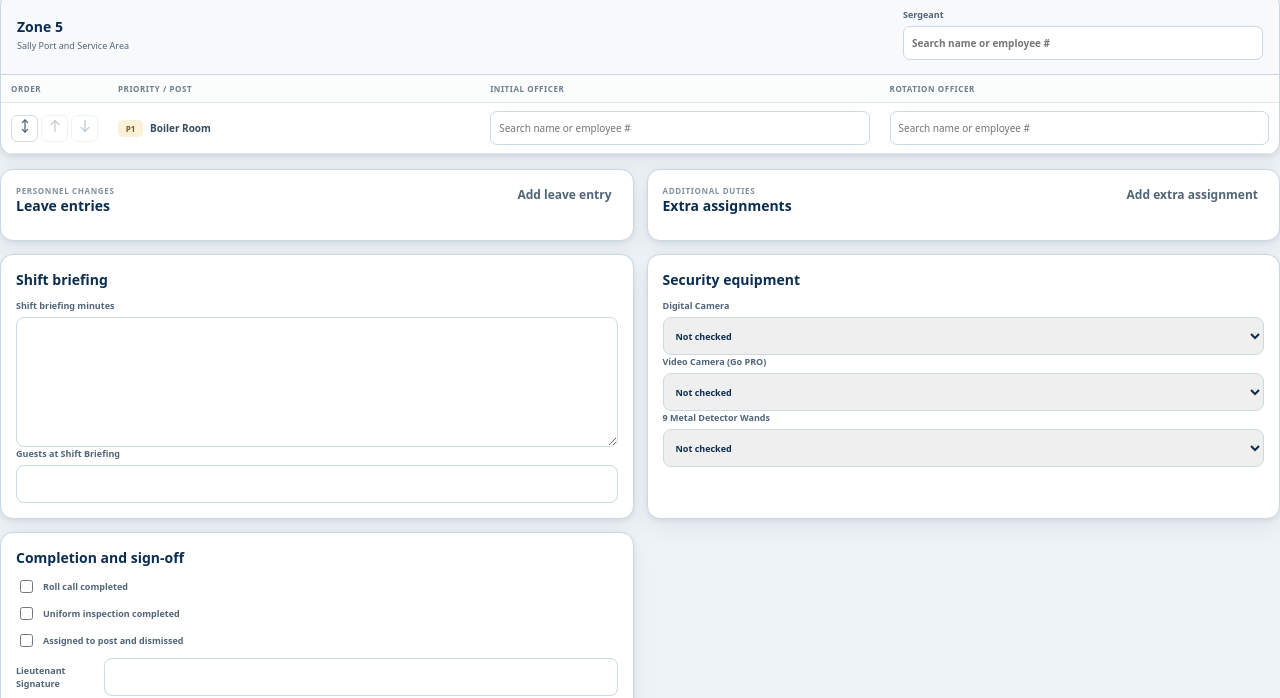
Scenario: Shift Assignment Roster editor › preserves edits made during a pending save and uses the returned revision next
The width and height of the screenshot is (1280, 698).
(page scrolled)
Step 1. Type "Initial edit" into the text box labelled "Shift briefing minutes" → (317, 382), box x1=16 y1=317 x2=618 y2=447
(page scrolled)
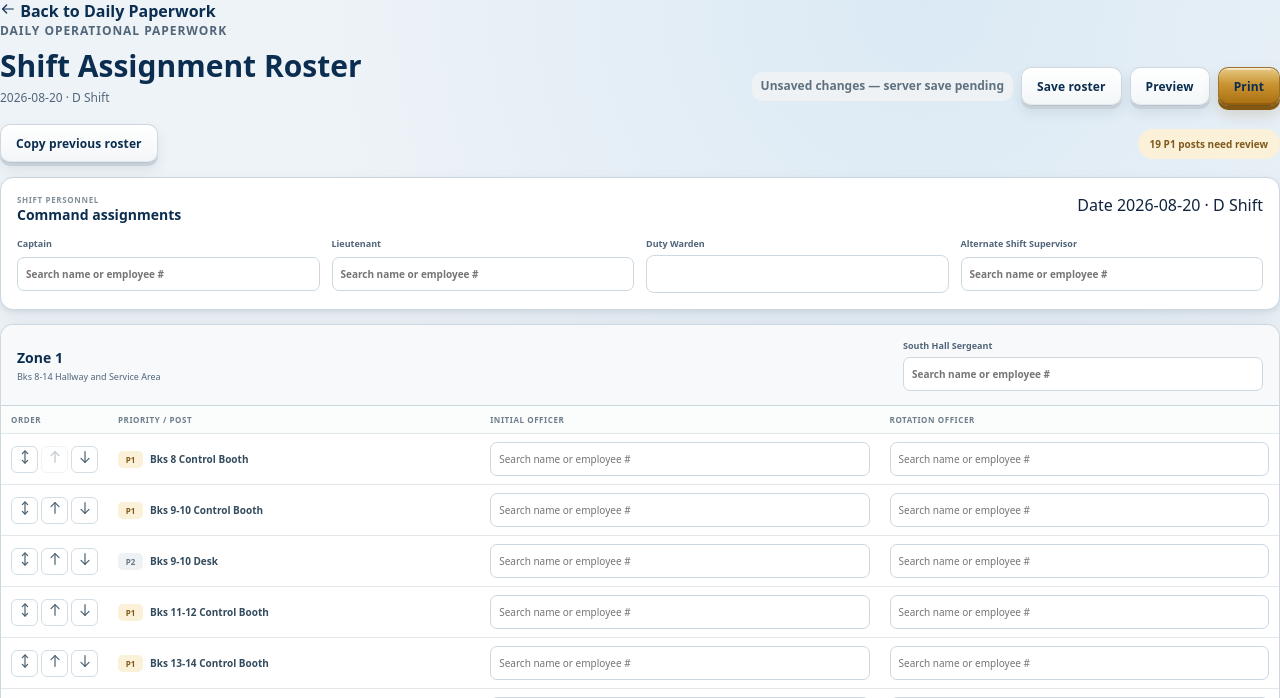
Step 2. Click the button "Save roster" → (1071, 86), box x1=1021 y1=67 x2=1122 y2=106
(page scrolled)
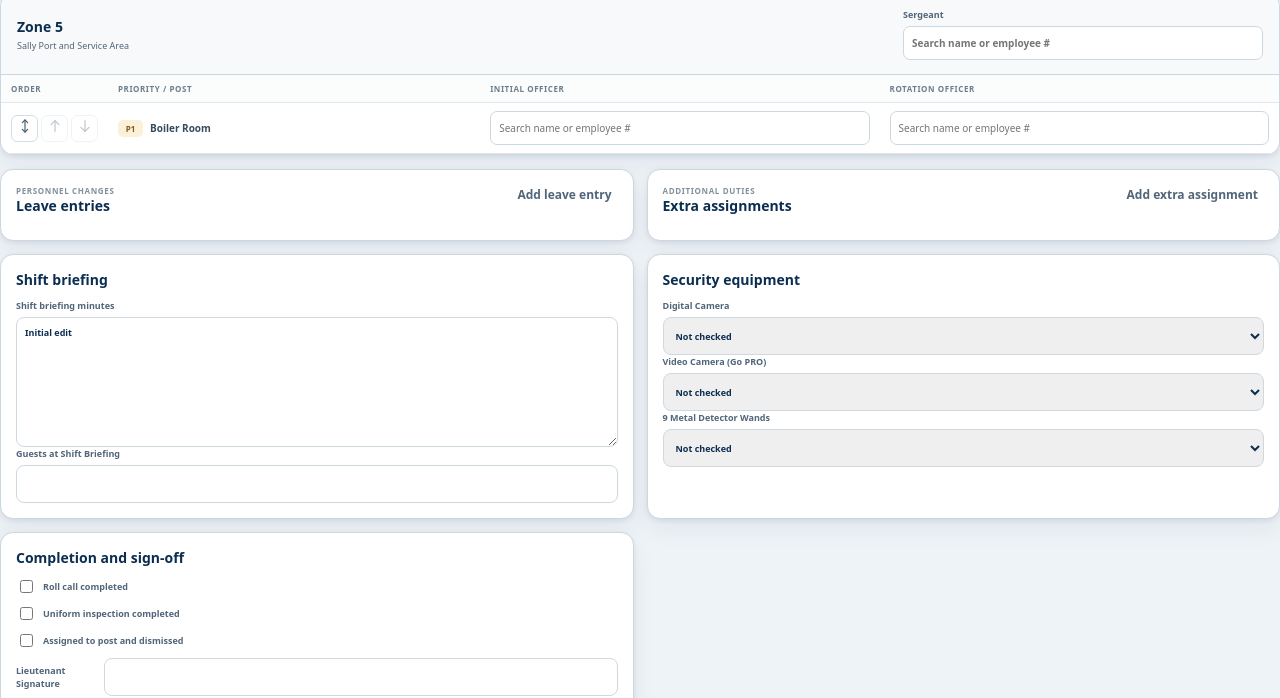
Step 3. Type " plus newer work" into the text box labelled "Shift briefing minutes" → (317, 382), box x1=16 y1=317 x2=618 y2=447
(page scrolled)
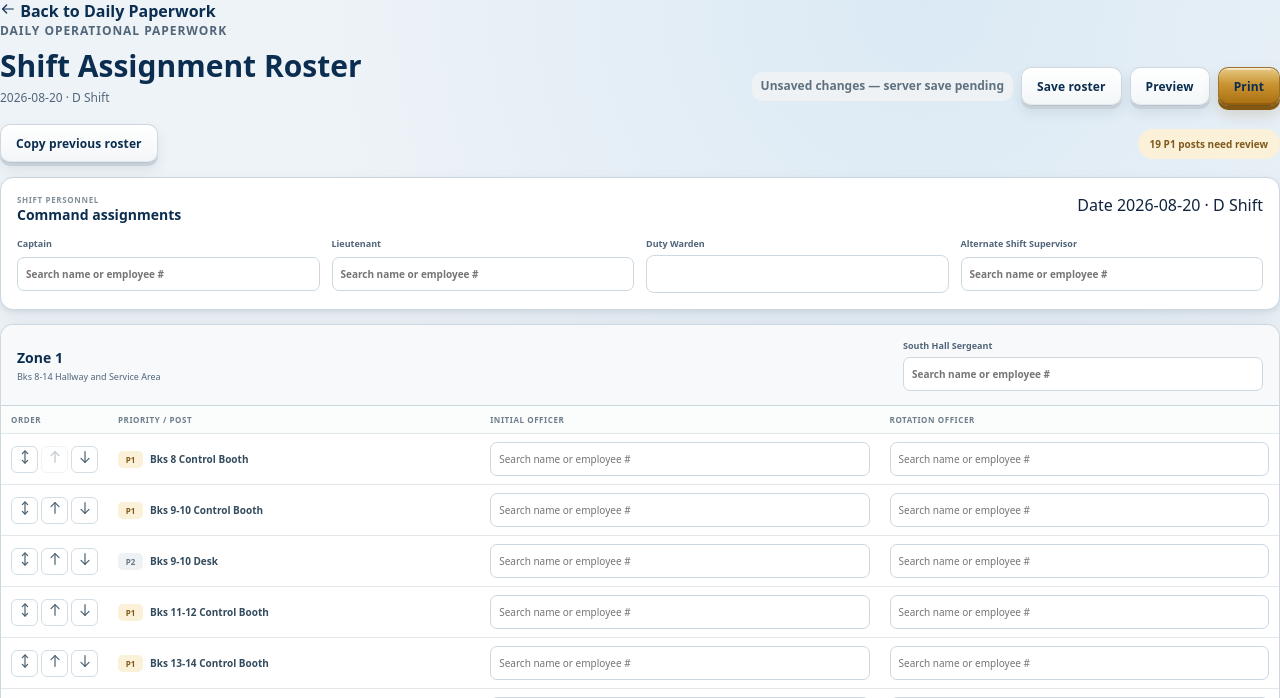
Expected: the text "Unsaved changes — server save pending" is shown, x1=752 y1=72 x2=1013 y2=101
Step 4. Click the button "Save roster" → (1071, 86), box x1=1021 y1=67 x2=1122 y2=106
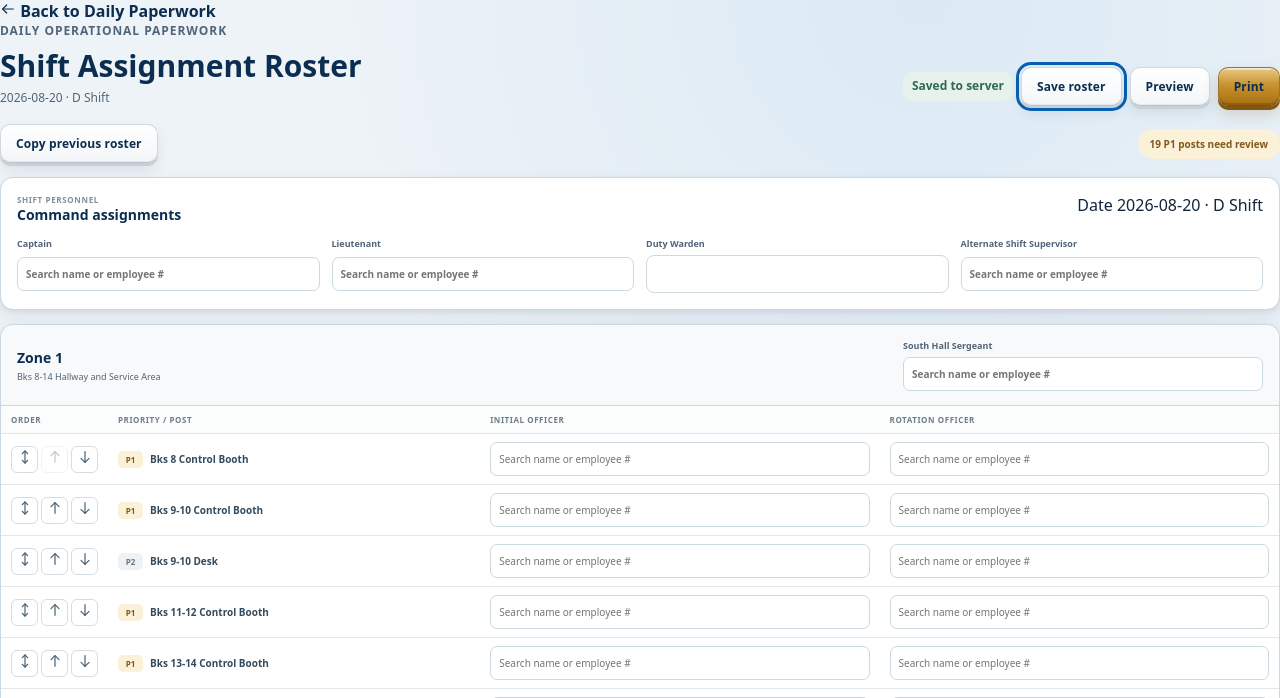
Expected: the text "Saved to server" is shown, x1=903 y1=72 x2=1013 y2=101
